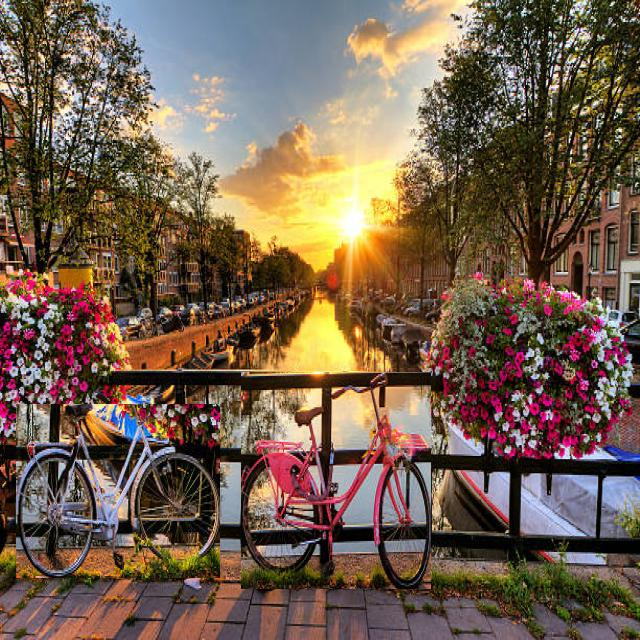bicycle: (241, 372, 431, 589), (16, 405, 220, 578)
